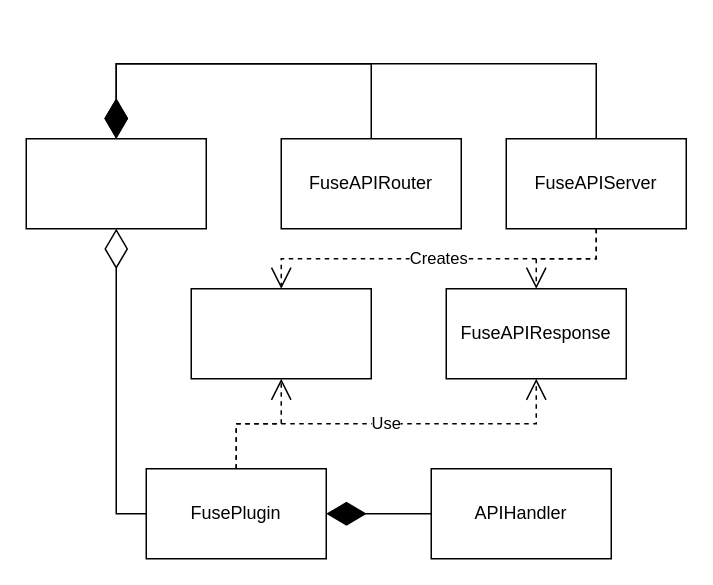
This 713x585 diagram has some shape labels left out. The shapes that lost their labels are listed below. From the top down, each one's centre as x and y in pixels, then its label:
At (115,183): "FuseContext".
At (280,333): "FuseAPIPacket".
